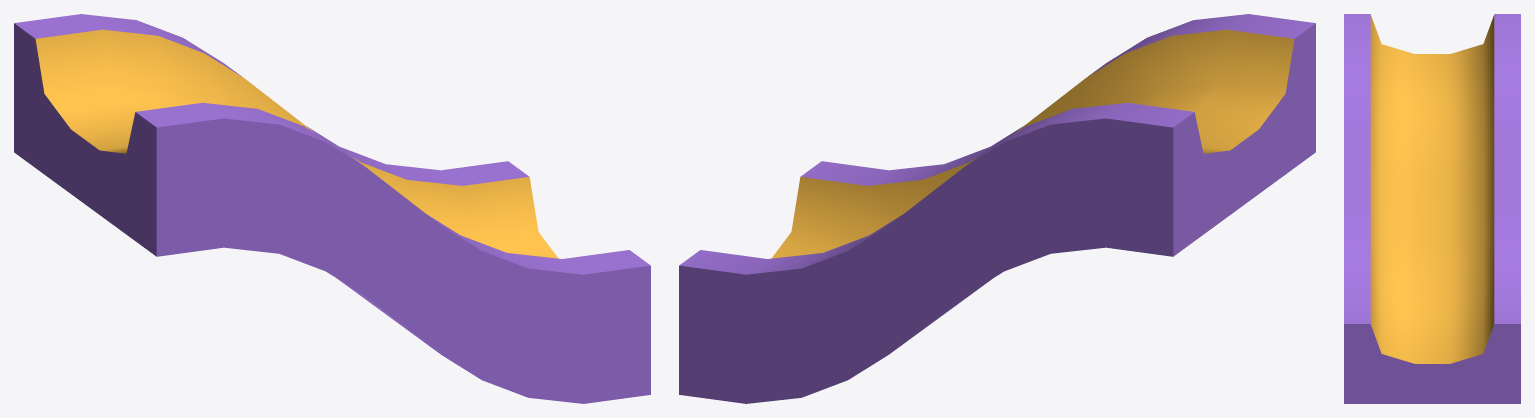
File: ramp-long-c-col.glb
The picture shows the model from 3 angles, left to right: view 1: azimuth 30°, elevation 25°; view 2: azimuth 150°, elevation 25°; view 3: azimuth 270°, elevation 25°; orthographic projection. The views are drawn at different scales.
Parts seen in each view (by area): view 1: ramp-long-c-col; view 2: ramp-long-c-col; view 3: ramp-long-c-col.
Part boxes in pixels (box(x1,y1,x2,y2)): ramp-long-c-col: box(14, 14, 650, 403); ramp-long-c-col: box(679, 14, 1315, 403); ramp-long-c-col: box(1344, 14, 1520, 403).
Bounding box in the file's own units: 2 × 1.5 × 1.
1 material, 1 textured.
